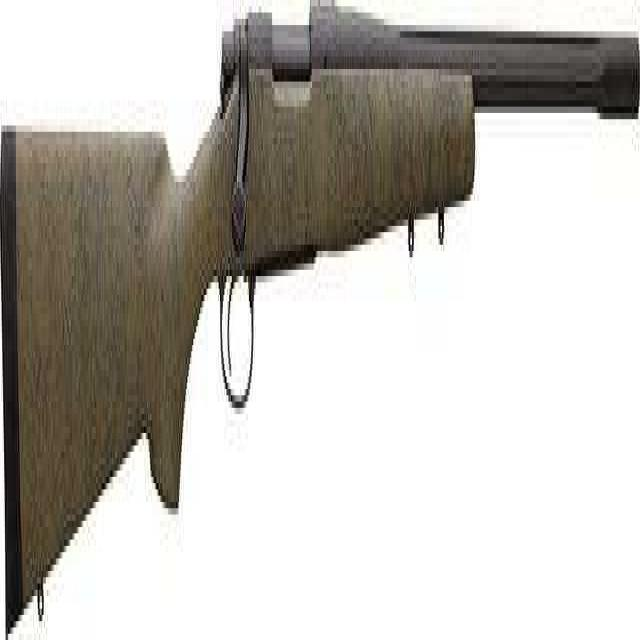heavyweapon: (1, 7, 640, 635)
